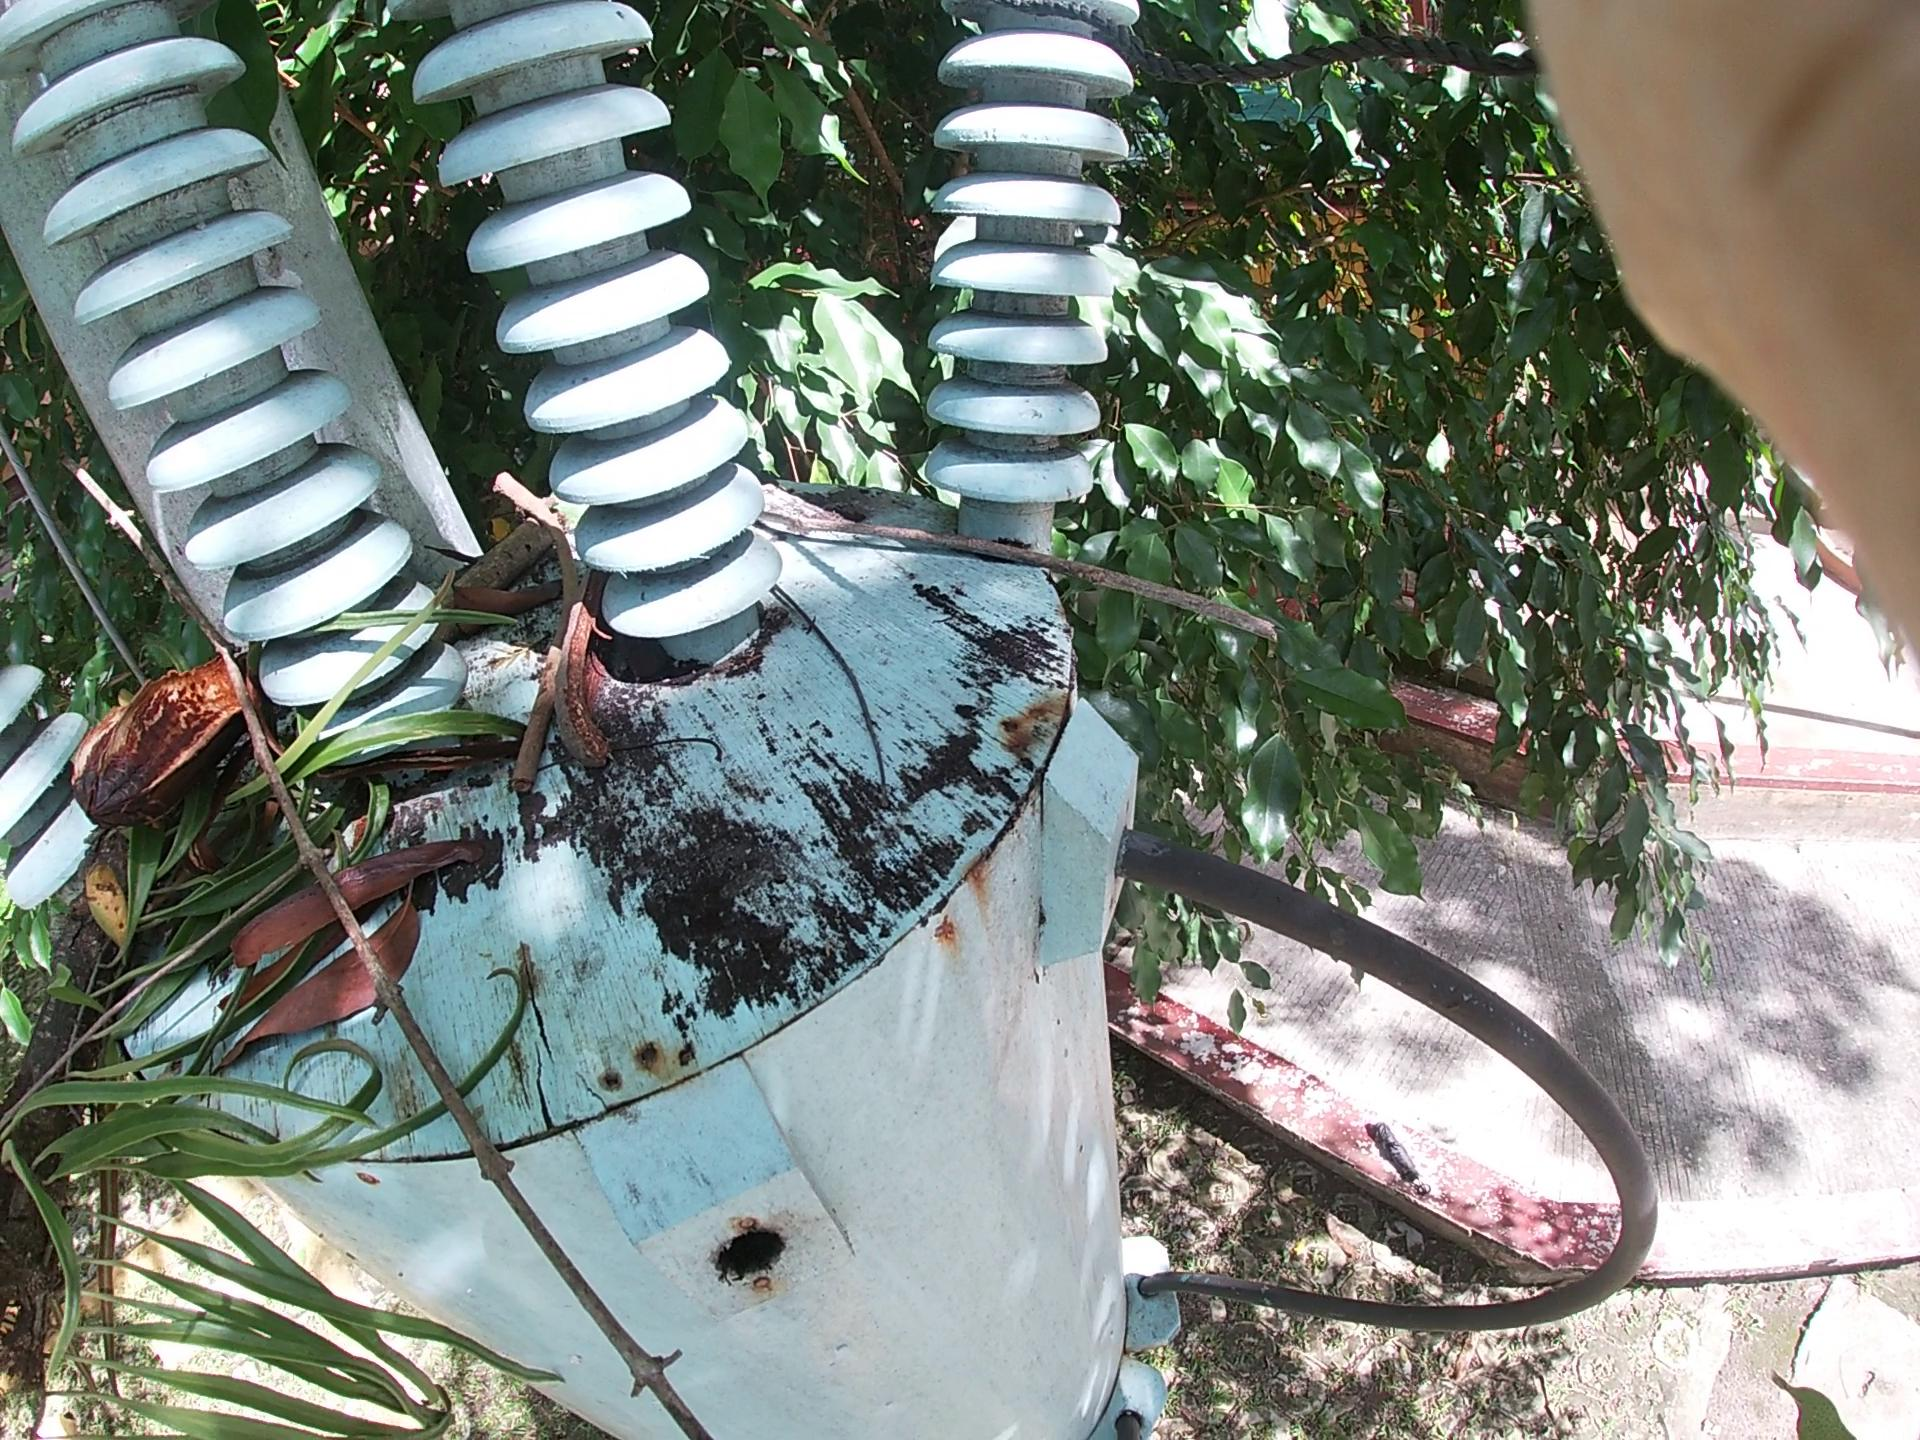branch with leaves: (32, 493, 417, 1395)
leaf: (184, 820, 547, 1104), (395, 507, 594, 663)
mahogany fruit: (98, 601, 221, 833), (550, 563, 636, 806)
tree branch: (203, 433, 688, 1389), (732, 502, 1253, 681), (479, 433, 547, 870)
